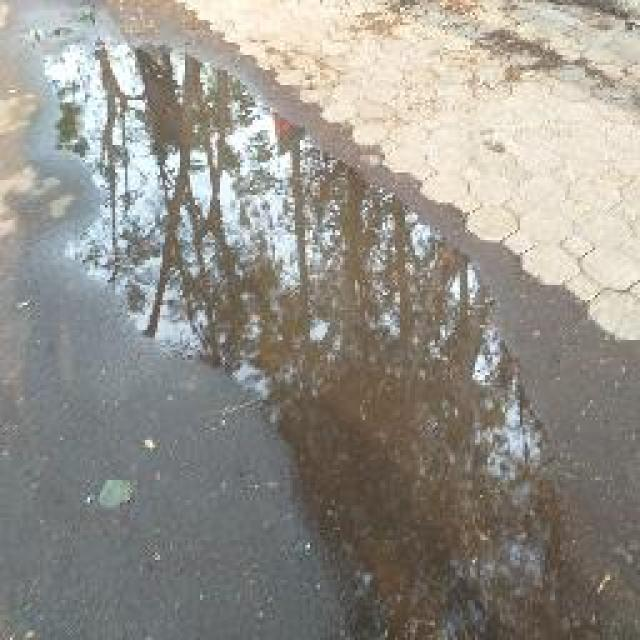puddle: (52, 29, 568, 640)
